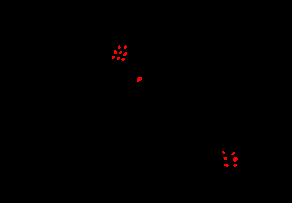Target: (137, 77, 142, 82), (233, 157, 238, 162), (123, 52, 127, 56), (224, 164, 229, 167), (118, 45, 121, 49), (124, 45, 127, 49), (114, 50, 117, 54), (121, 58, 125, 61), (231, 152, 235, 155), (223, 157, 227, 160), (233, 164, 237, 167), (119, 51, 122, 54), (112, 56, 115, 59), (117, 57, 120, 60), (222, 151, 225, 154)
